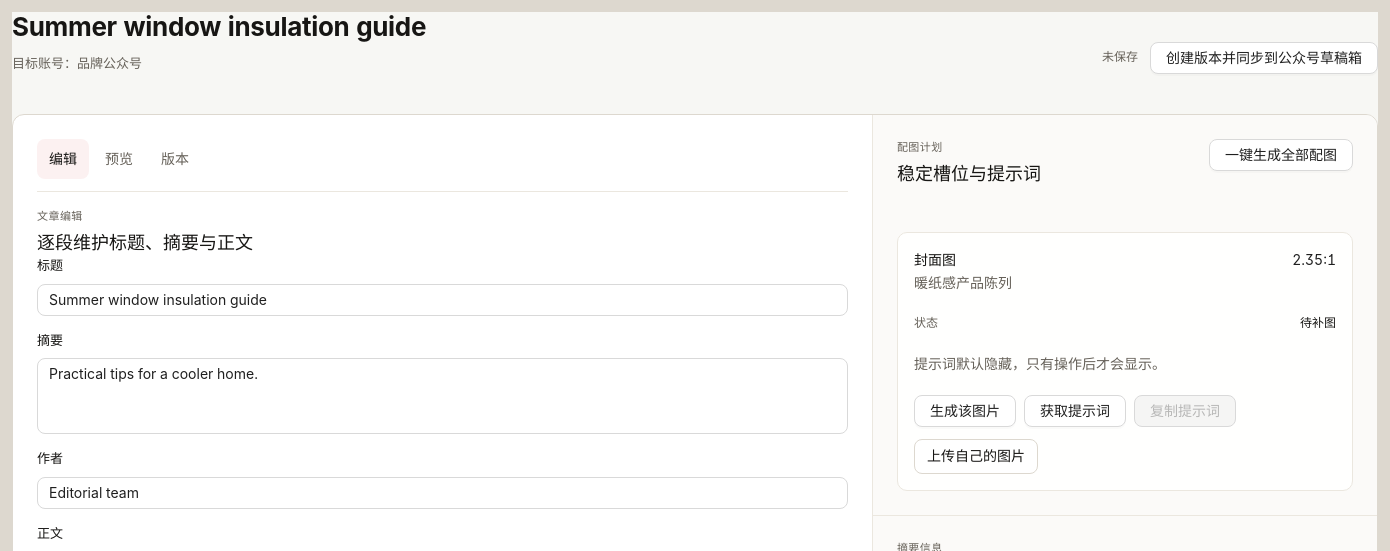
Test: WechatArticleWorkspace › debounces autosave by two seconds and surfaces a structured conflict without retrying
Replace the text in the field labelled "标题" with "Conflict title": (442, 300) x1=37 y1=284 x2=848 y2=316
Wait 2000 ms
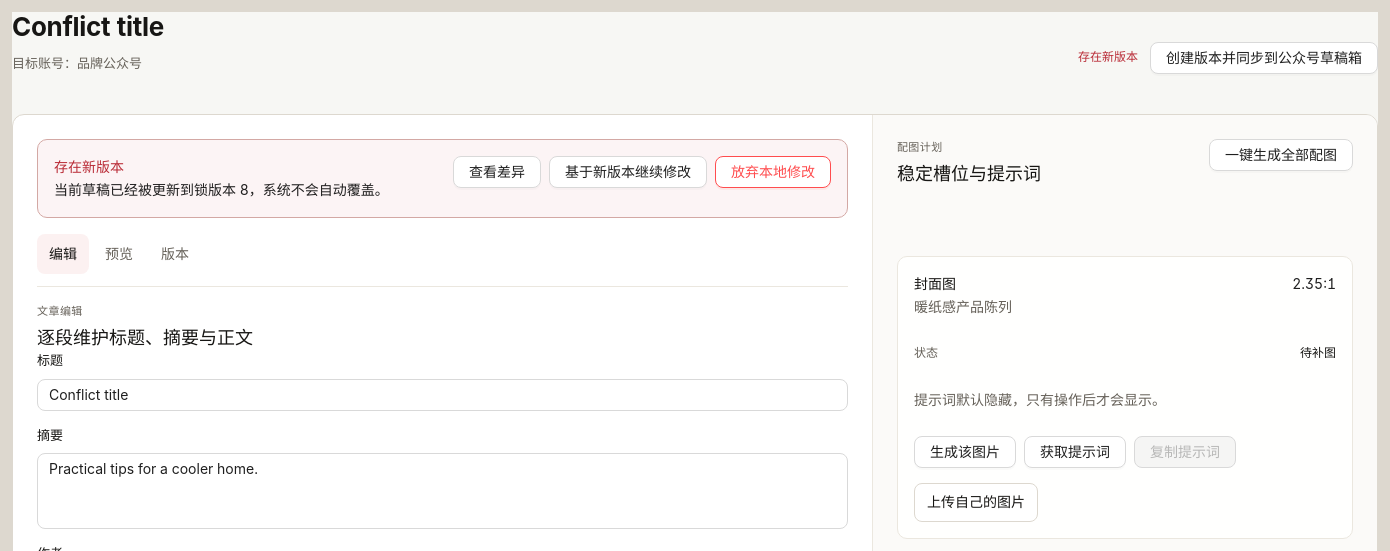
Expected: the button "查看差异" is shown, x1=453 y1=156 x2=541 y2=188
Expected: the button "基于新版本继续修改" is shown, x1=549 y1=156 x2=707 y2=188
Expected: the button "放弃本地修改" is shown, x1=715 y1=156 x2=831 y2=188
